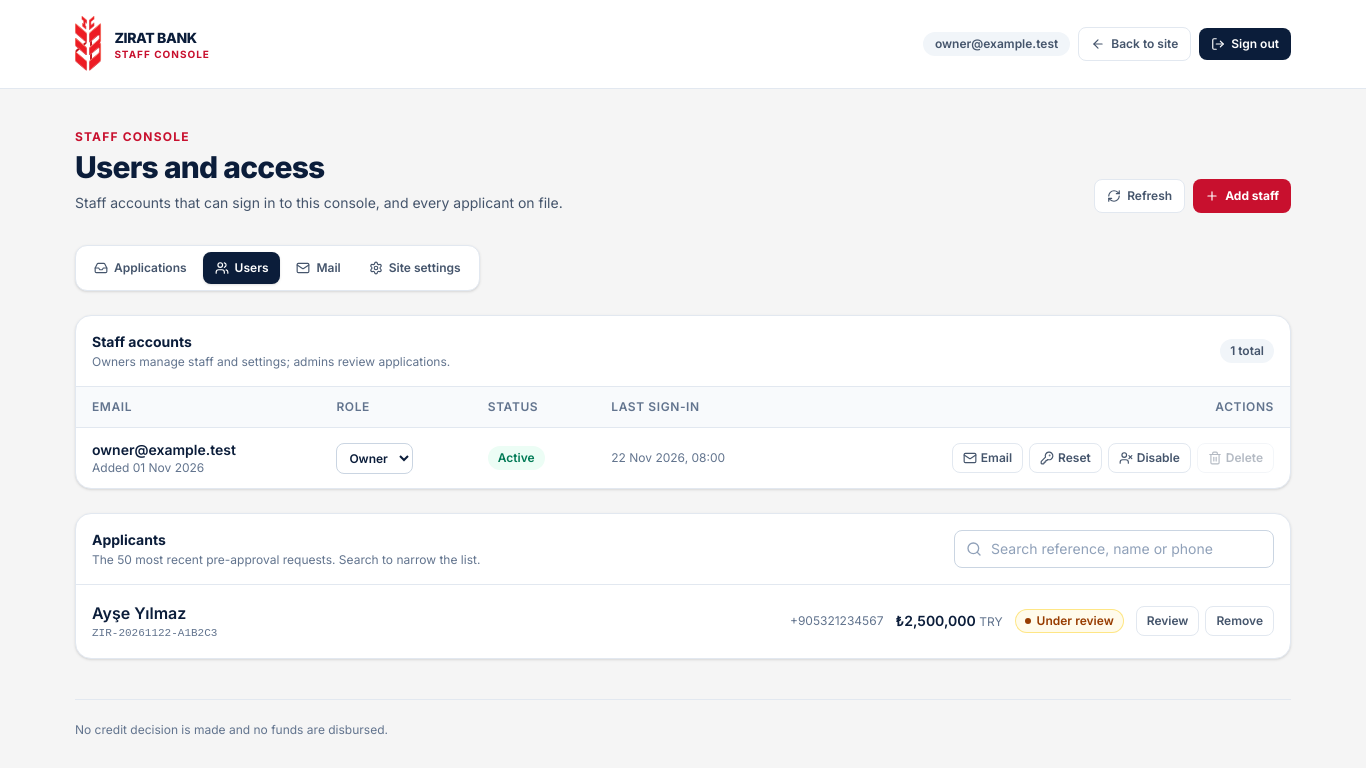
Test: admin users and settings › lists staff, creates an account and manages applicants
Expected: the heading "Users and access" is shown, [75,149,325,185]
Expected: the text "owner@example.test" next to "Back to site" is shown, [935,36,1058,51]
Click the button "Add staff".
click(1242, 196)  # box [1193,179,1291,213]
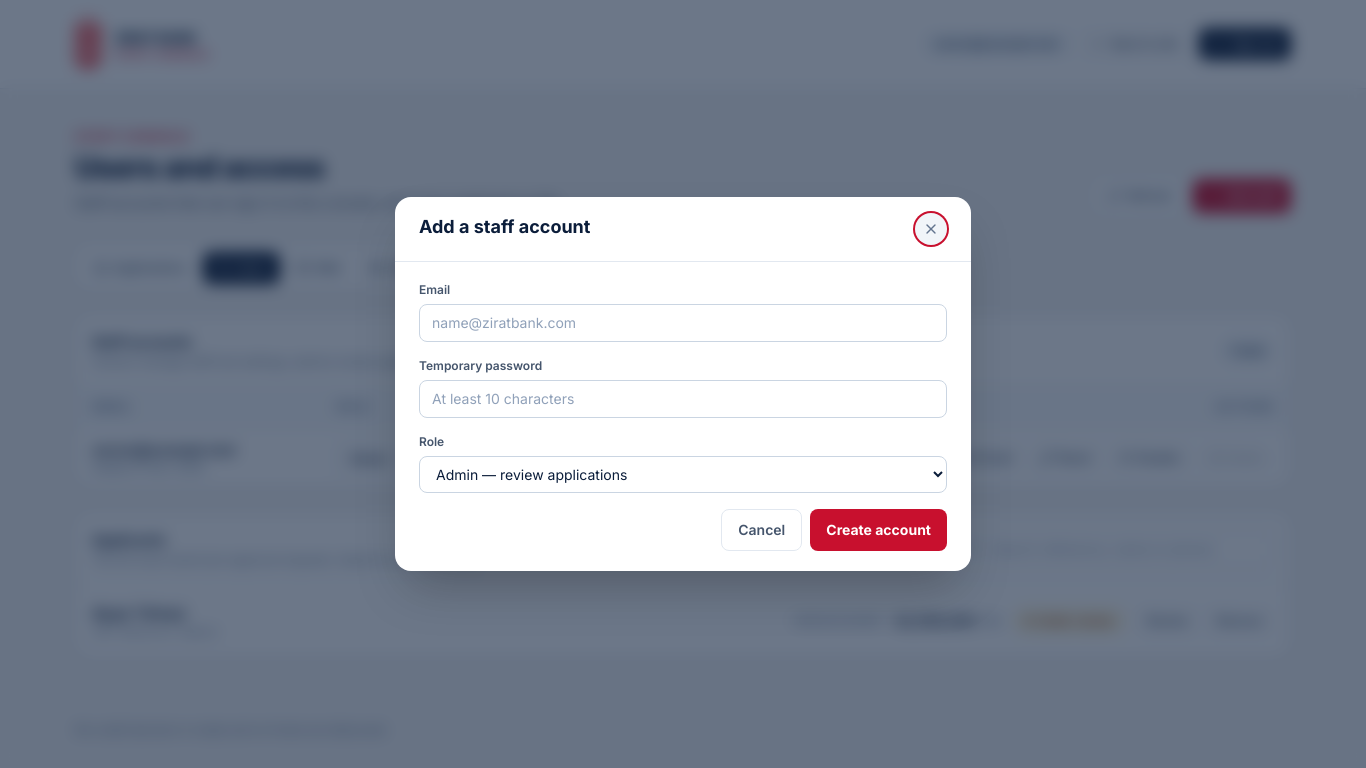
Type "new@example.test" into the field labelled "Email".
click(683, 323); type("new@example.test")  # box [419,304,947,342]
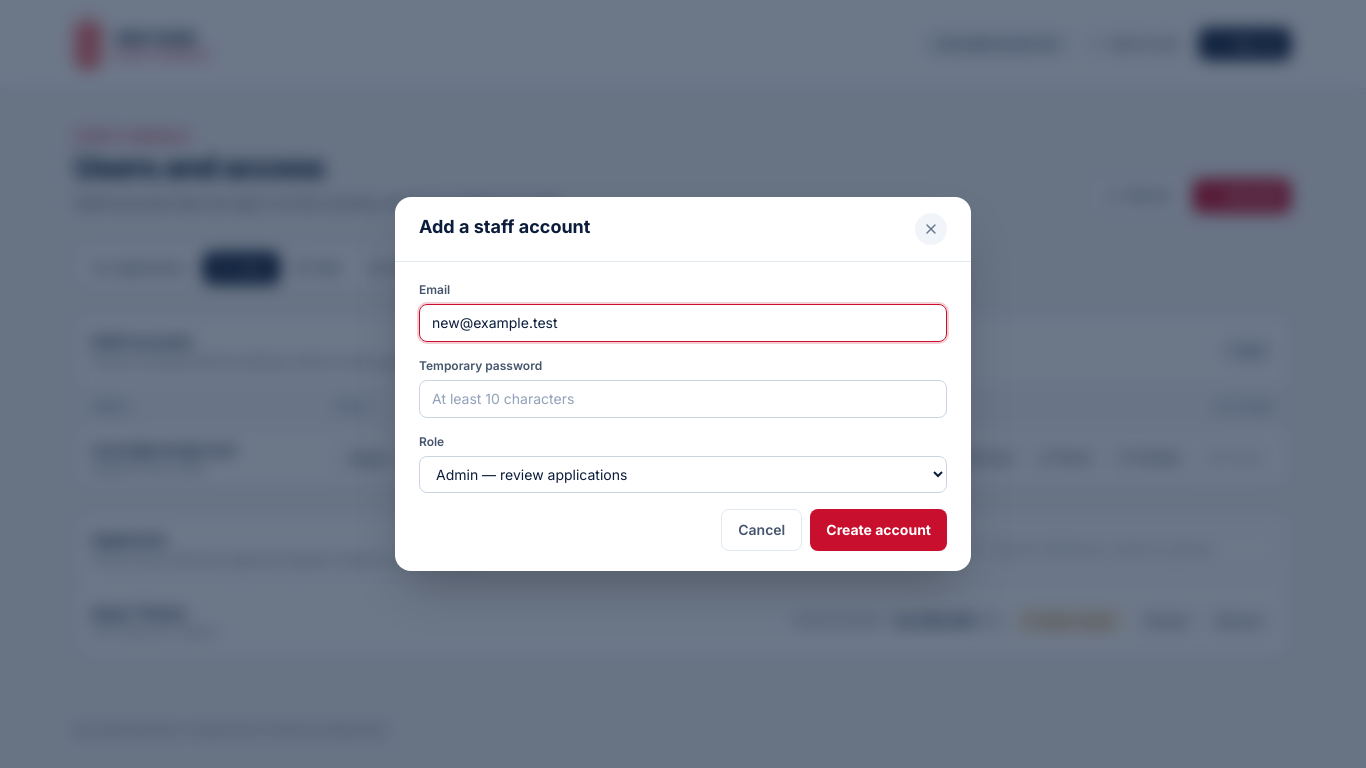
Type "new-staff-passphrase" into the password field labelled "Temporary password".
click(683, 399); type("new-staff-passphrase")  # box [419,380,947,418]
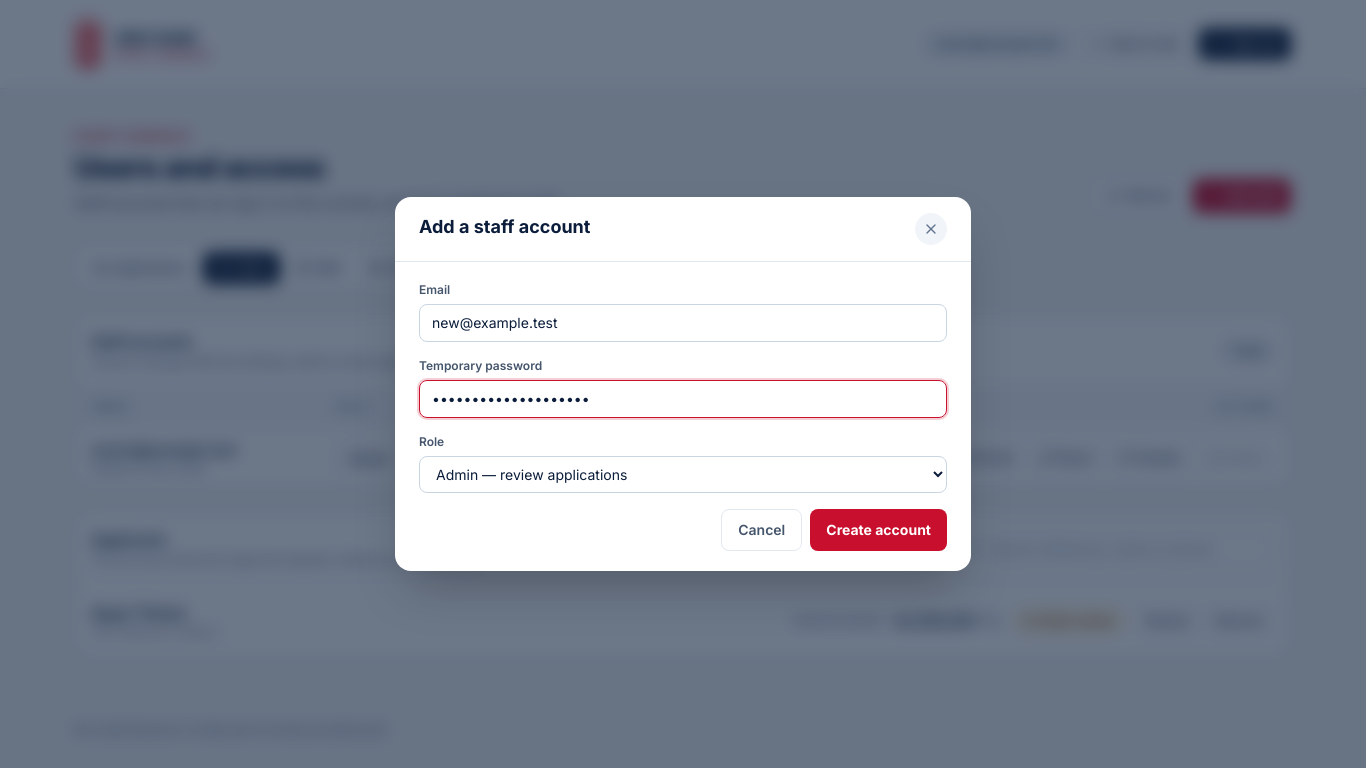
Click the button "Create account".
click(879, 530)  # box [810,509,947,551]
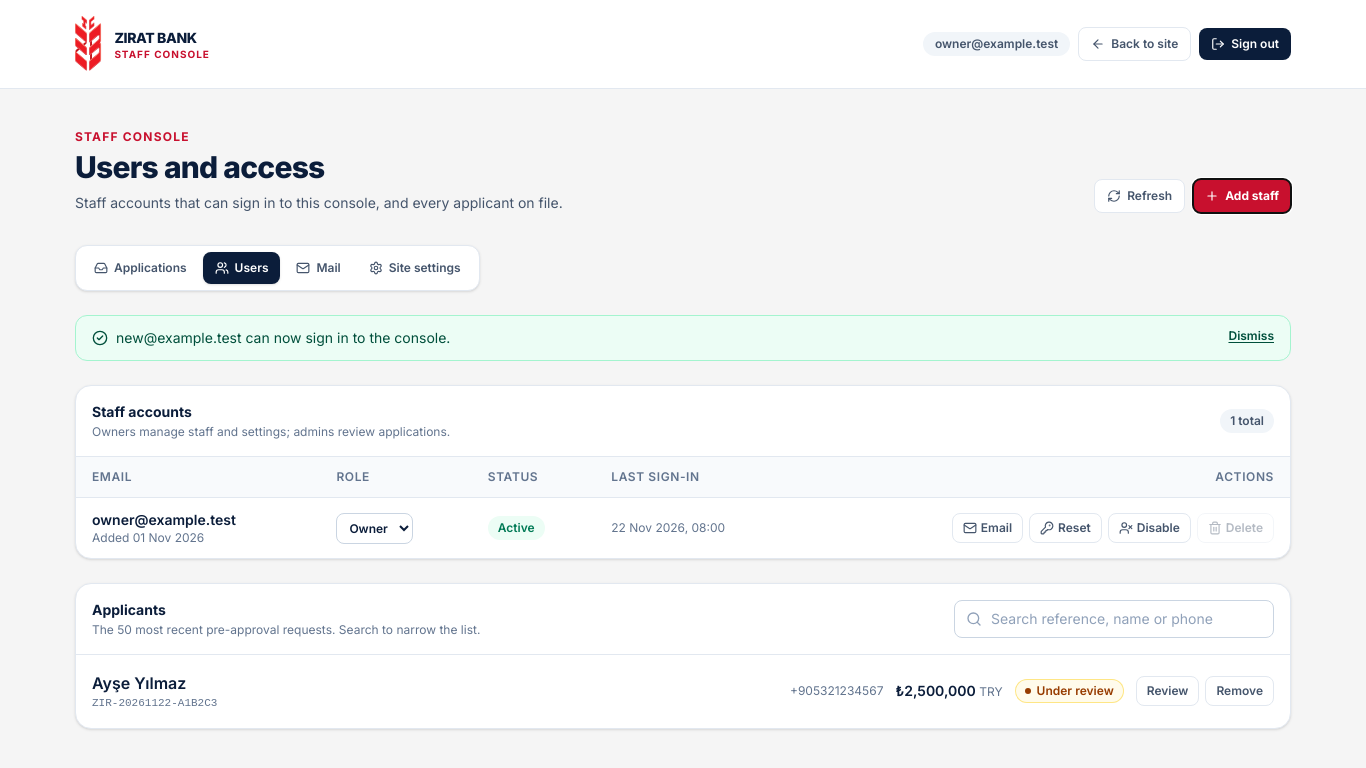
Expected: the text "new@example.test can now sign in to the console." is shown, [92,328,450,348]
